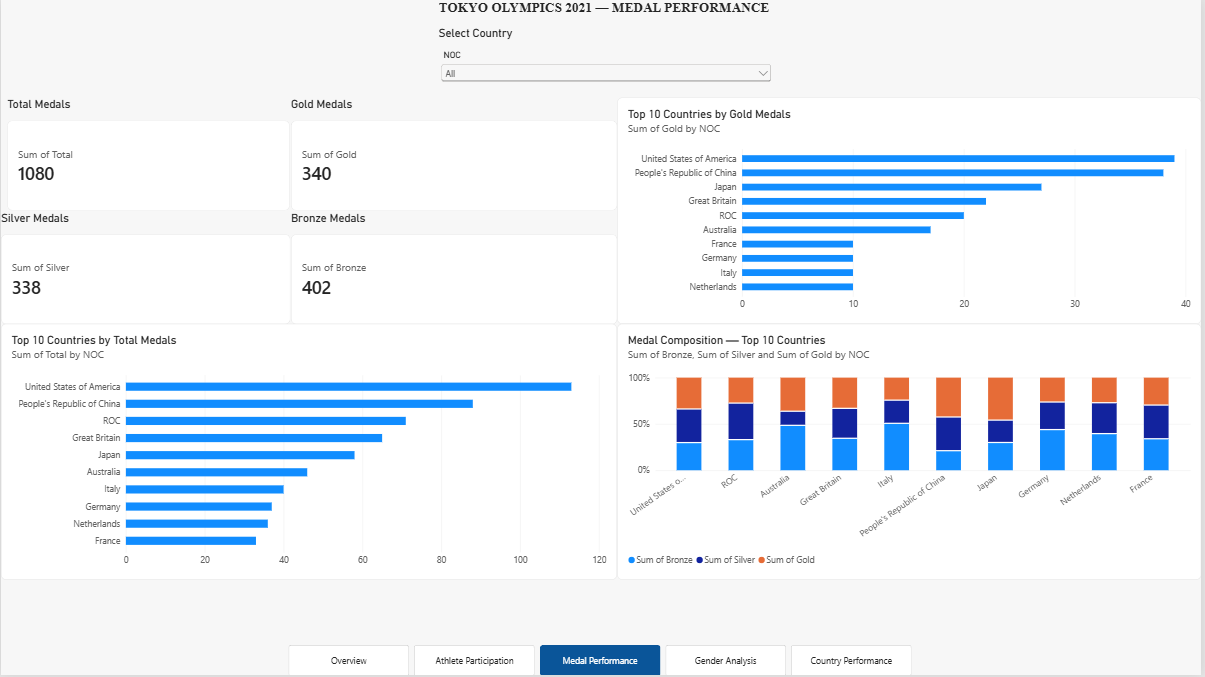

Layout of this report page (visuals, bound fields, positions):
{"tool":"powerbi","page":{"name":"Medal Performance","canvas":[1920,1080],"ordinal":2},"visuals":[{"type":"textbox","box":[10.5,0,1909.9,34.9],"z":0},{"type":"cardVisual","title":"Total Medals","fields":{"Data":["Sum(country_performance.Total)"]},"box":[10.3,156.4,452.8,181.1],"z":1},{"type":"cardVisual","title":"Gold Medals","fields":{"Data":["Sum(country_performance.Gold)"]},"box":[463.1,156.4,522.8,181.1],"z":2},{"type":"cardVisual","title":"Silver Medals","fields":{"Data":["Sum(country_performance.Silver)"]},"box":[0,337.6,463.1,181.1],"z":3},{"type":"cardVisual","title":"Bronze Medals","fields":{"Data":["Sum(country_performance.Bronze)"]},"box":[463.1,337.6,522.8,181.1],"z":4},{"type":"clusteredBarChart","title":"Top 10 Countries by Total Medals","fields":{"Category":["country_performance.NOC"],"Y":["Sum(country_performance.Total)"]},"box":[0,518.7,985.9,409.6],"z":5},{"type":"clusteredBarChart","title":"Top 10 Countries by Gold Medals","fields":{"Category":["country_performance.NOC"],"Y":["Sum(country_performance.Gold)"]},"box":[985.9,156.4,934.5,362.3],"z":6},{"type":"hundredPercentStackedColumnChart","title":"Medal Composition — Top 10 Countries","fields":{"Category":["country_performance.NOC"],"Y":["Sum(country_performance.Bronze)","Sum(country_performance.Silver)","Sum(country_performance.Gold)"]},"box":[985.9,518.7,934.5,409.6],"z":7},{"type":"slicer","title":"Select Country","fields":{"Values":["country_performance.NOC"]},"box":[699.8,41.2,537.2,115.3],"z":8},{"type":"pageNavigator","box":[459,1031.2,1000,50],"z":9}]}

Visuals, with their boxes in screenshot pixels (x1, y1, x2, y2), scaled from the page's 1920x1080 canvas onto the 1205x677 screenshot:
textbox: crop(7, 0, 1204, 22)
"Total Medals" cardVisual: crop(6, 98, 291, 212)
"Gold Medals" cardVisual: crop(291, 98, 619, 212)
"Silver Medals" cardVisual: crop(0, 212, 291, 325)
"Bronze Medals" cardVisual: crop(291, 212, 619, 325)
"Top 10 Countries by Total Medals" clusteredBarChart: crop(0, 325, 619, 582)
"Top 10 Countries by Gold Medals" clusteredBarChart: crop(619, 98, 1204, 325)
"Medal Composition — Top 10 Countries" hundredPercentStackedColumnChart: crop(619, 325, 1204, 582)
"Select Country" slicer: crop(439, 26, 776, 98)
pageNavigator: crop(288, 646, 916, 676)
